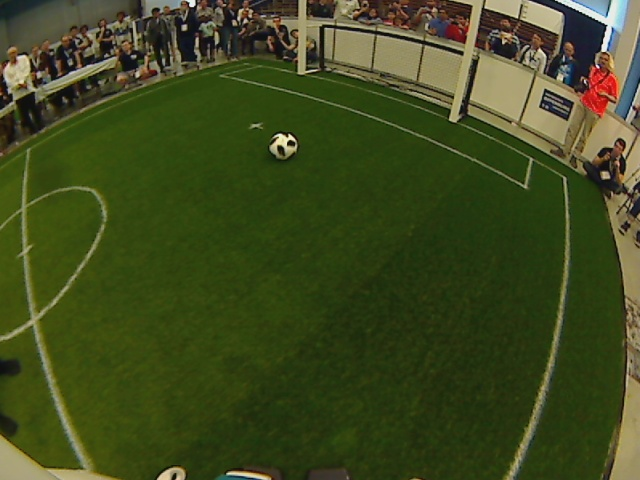ball: (265, 131, 300, 160)
